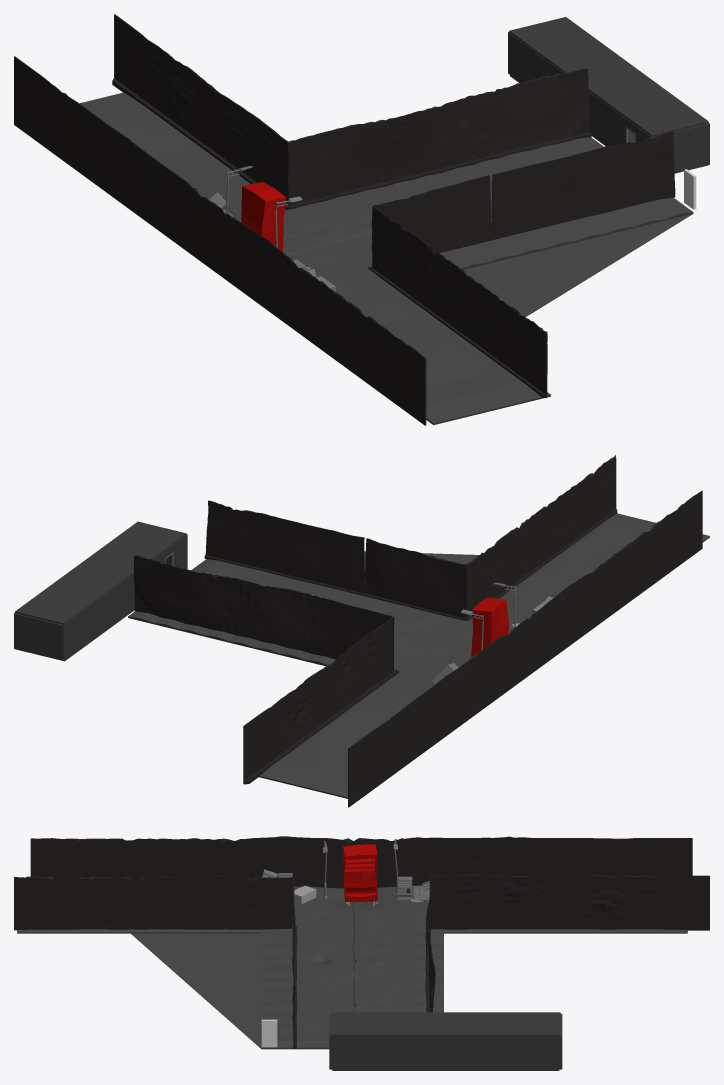
File: lobby.fbx
3 views of the same model, one above another, from view 1: azimuth 30°, elevation 25°; view 2: azimuth 150°, elevation 25°; view 3: azimuth 270°, elevation 25° (orthographic). The views are drawn at different scales.
Parts seen in each view (by area): view 1: Plane.286, Plane.009, Plane.003, Plane.001, Cube.005, Cube.004, Cube.044, Cube.003; view 2: Plane.003, Plane.009, Plane.286, Plane.001, Cube.005, Cube.004, Cube.002, Cube.044; view 3: Plane.286, Plane.001, Plane.009, Plane.003, Cube.001, Cube.005, Cube.044, Cube.024, Cube.007.
Boxes of the visible parts, bbox=[...] form: Plane.286: bbox=[79, 92, 693, 424]; Plane.009: bbox=[112, 14, 591, 209]; Plane.003: bbox=[368, 130, 675, 397]; Plane.001: bbox=[14, 56, 426, 425]; Cube.005: bbox=[509, 17, 708, 136]; Cube.004: bbox=[508, 32, 651, 145]; Cube.044: bbox=[241, 182, 285, 251]; Cube.003: bbox=[660, 123, 709, 173]; Plane.003: bbox=[204, 455, 617, 620]; Plane.009: bbox=[133, 555, 398, 784]; Plane.286: bbox=[128, 513, 709, 798]; Plane.001: bbox=[348, 490, 702, 807]; Cube.005: bbox=[15, 521, 186, 624]; Cube.004: bbox=[63, 534, 187, 660]; Cube.002: bbox=[14, 613, 63, 660]; Cube.044: bbox=[471, 597, 508, 657]; Plane.286: bbox=[17, 886, 687, 1049]; Plane.001: bbox=[30, 836, 692, 888]; Plane.009: bbox=[425, 874, 709, 1012]; Plane.003: bbox=[14, 876, 297, 1048]; Cube.001: bbox=[330, 1036, 561, 1069]; Cube.005: bbox=[331, 1012, 560, 1036]; Cube.044: bbox=[343, 844, 377, 901]; Cube.024: bbox=[261, 1019, 277, 1047]; Cube.007: bbox=[332, 1069, 559, 1070].
Size of the model in its own units: 6004 by 994 by 9548.
